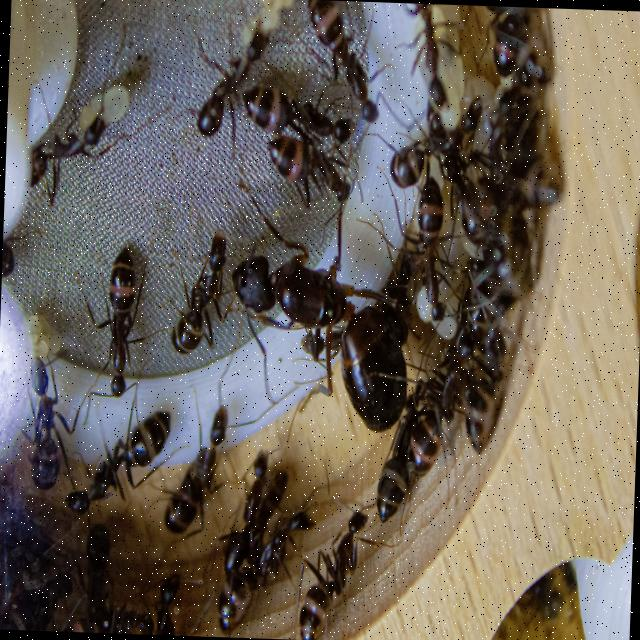Egg: (80, 80, 132, 132), (38, 341, 48, 356)
Medior: (74, 247, 152, 429), (64, 394, 170, 520), (287, 505, 368, 640), (267, 128, 364, 214), (170, 233, 234, 358)
Queen: (226, 202, 414, 436)
